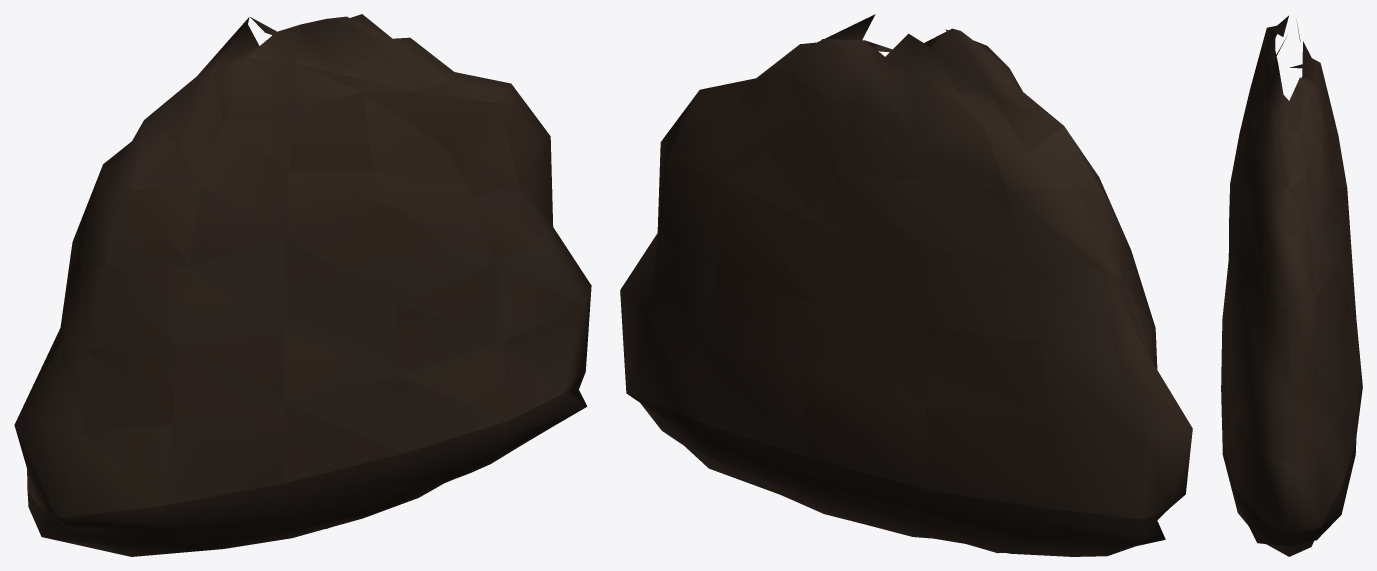
File: mega_column_v3.glb
3 views of the same model, side by side, from view 1: azimuth 30°, elevation 25°; view 2: azimuth 150°, elevation 25°; view 3: azimuth 270°, elevation 25° (orthographic). The views are drawn at different scales.
Bounding box in the file's own units: 1 × 0.8606 × 0.2434.
